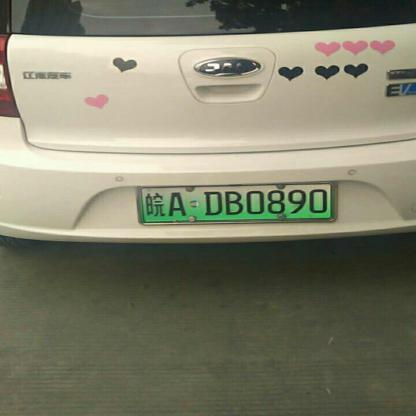lp: (141, 184, 330, 221)
